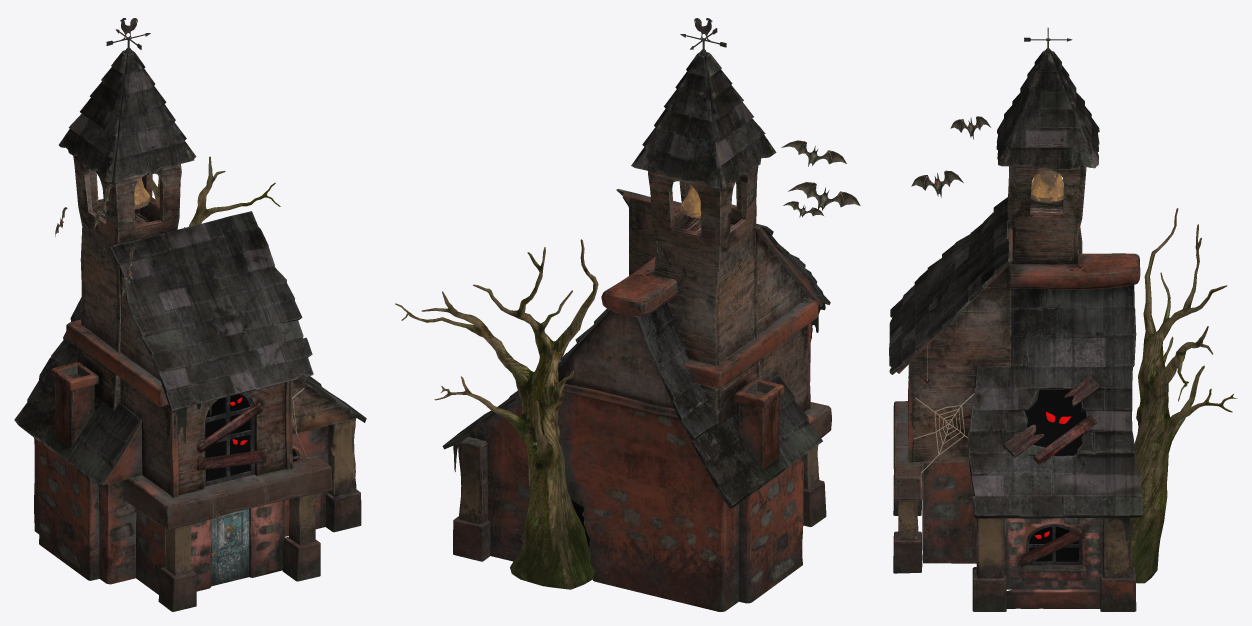
Rendered from haunted-house.glb.
The picture shows the model from 3 angles, left to right: view 1: azimuth 30°, elevation 25°; view 2: azimuth 150°, elevation 25°; view 3: azimuth 270°, elevation 25°; orthographic projection. The views are drawn at different scales.
Visible parts, largest first — view 1: haunted_house.1.mesh.1, haunted_house.1.mesh; view 2: haunted_house.1.mesh.1, haunted_house.1.mesh; view 3: haunted_house.1.mesh.1, haunted_house.1.mesh.
Boxes of the visible parts, x1,y1,x2,y2 form: haunted_house.1.mesh.1: (14,50,366,611); haunted_house.1.mesh: (55,18,307,556); haunted_house.1.mesh.1: (442,51,831,611); haunted_house.1.mesh: (395,18,860,589); haunted_house.1.mesh.1: (889,50,1142,611); haunted_house.1.mesh: (911,27,1237,583).
Bounding box in the file's own units: 0.2116 × 0.3383 × 0.2126.
2 materials, 2 textured.
